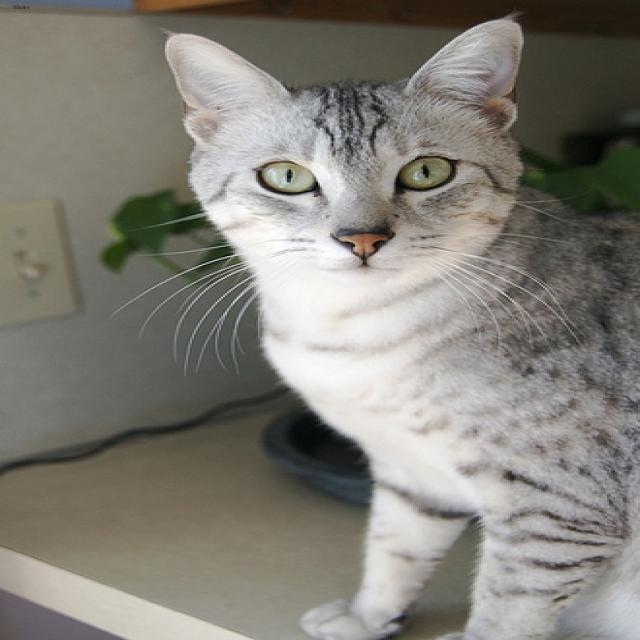cat: (161, 18, 520, 289)
